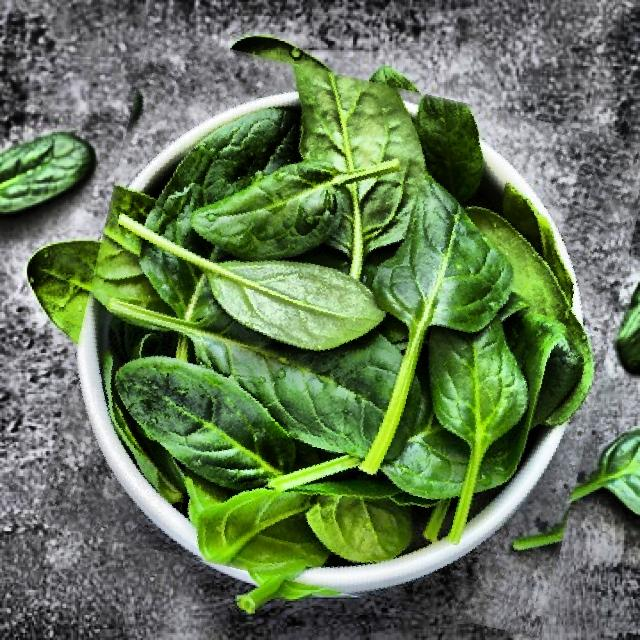spinach: (61, 56, 628, 613)
